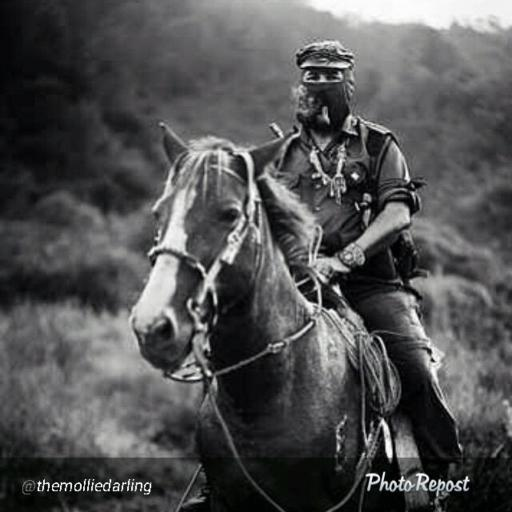horse: (128, 118, 410, 512)
